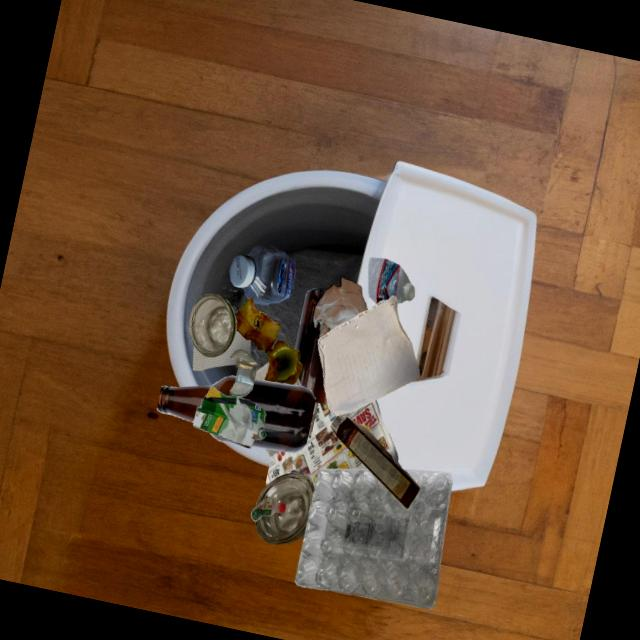biowaste: (235, 296, 280, 353), (264, 340, 302, 384)
cardboard: (330, 414, 420, 508), (192, 386, 266, 448)
glass: (156, 375, 316, 453), (255, 472, 314, 544), (294, 288, 328, 405), (188, 293, 236, 357), (229, 348, 257, 397)
paper: (317, 295, 420, 415), (265, 403, 367, 488), (340, 399, 401, 468), (265, 364, 311, 448), (312, 277, 367, 339), (192, 331, 250, 370), (308, 402, 317, 436)
plastic: (294, 468, 452, 609), (229, 245, 295, 305), (368, 257, 414, 304), (250, 497, 285, 521)
